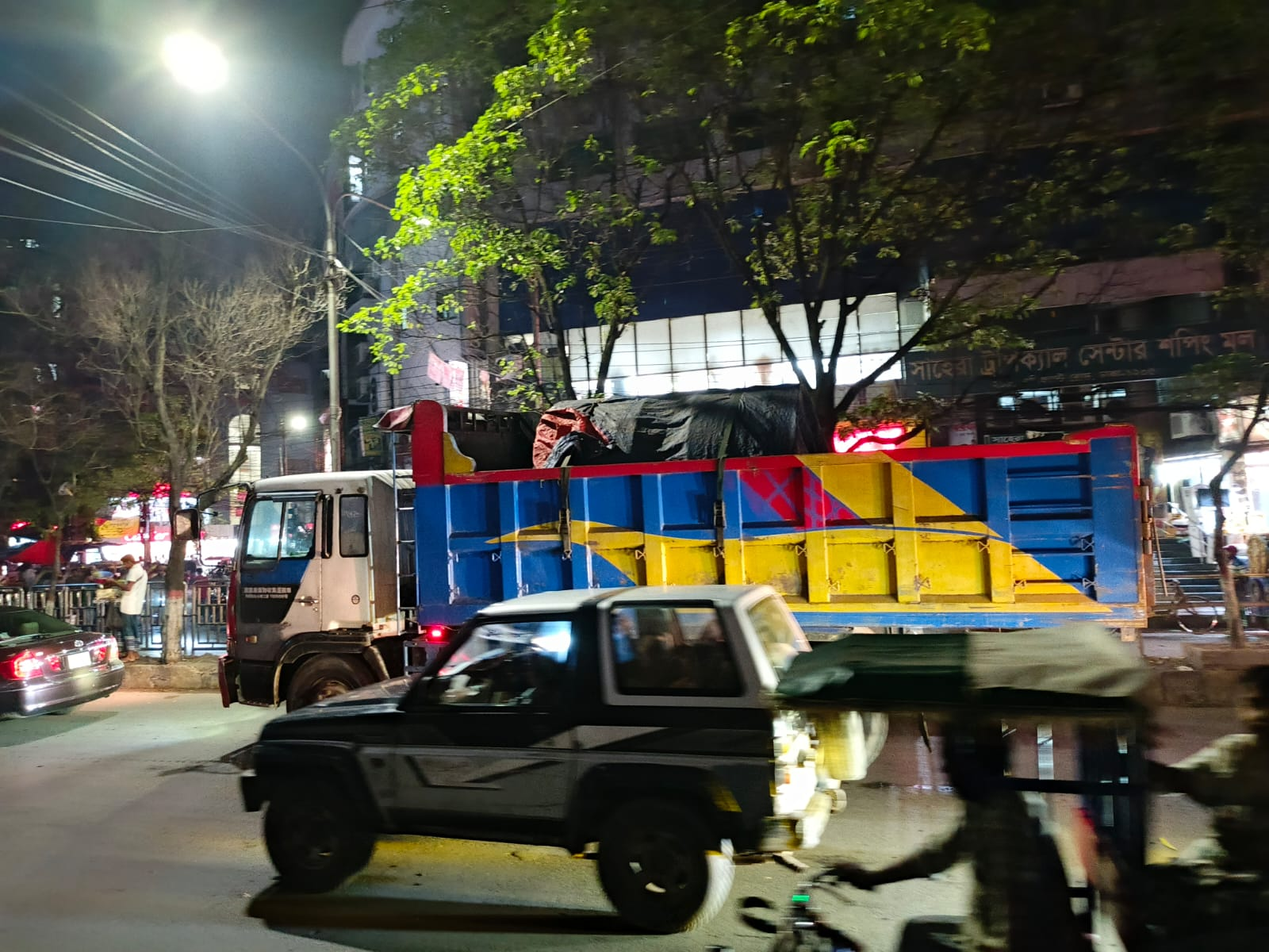Truck: (204, 391, 1165, 647)
private car: (251, 572, 816, 924)
